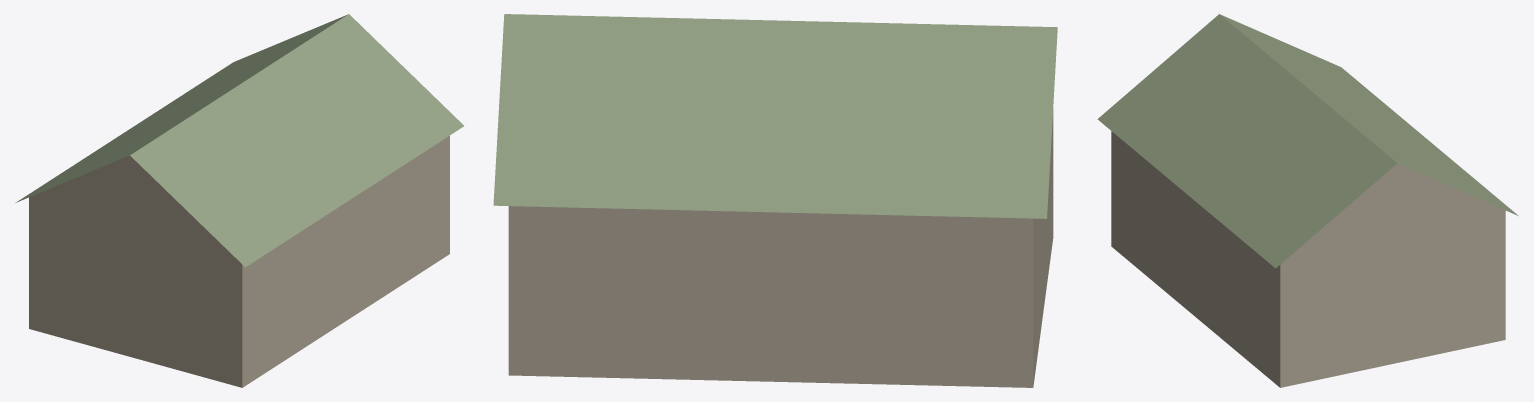
3 views of the same model, side by side, from view 1: azimuth 30°, elevation 25°; view 2: azimuth 150°, elevation 25°; view 3: azimuth 270°, elevation 25° (orthographic). The views are drawn at different scales.
Parts seen in each view (by area): view 1: tuile; view 2: tuile; view 3: tuile.
Part boxes in pixels (left/top/right/bottom): tuile: left=15, top=14, right=463, bottom=387; tuile: left=493, top=14, right=1057, bottom=387; tuile: left=1097, top=14, right=1518, bottom=387.
Size of the model in its own units: 16.04 by 7.6 by 14.22.
